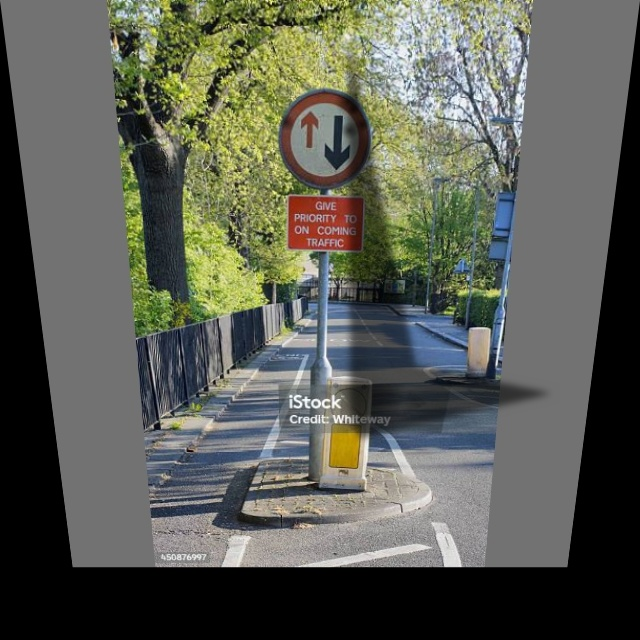Priority_for_Oncoming_Traffic: (281, 91, 371, 188)
